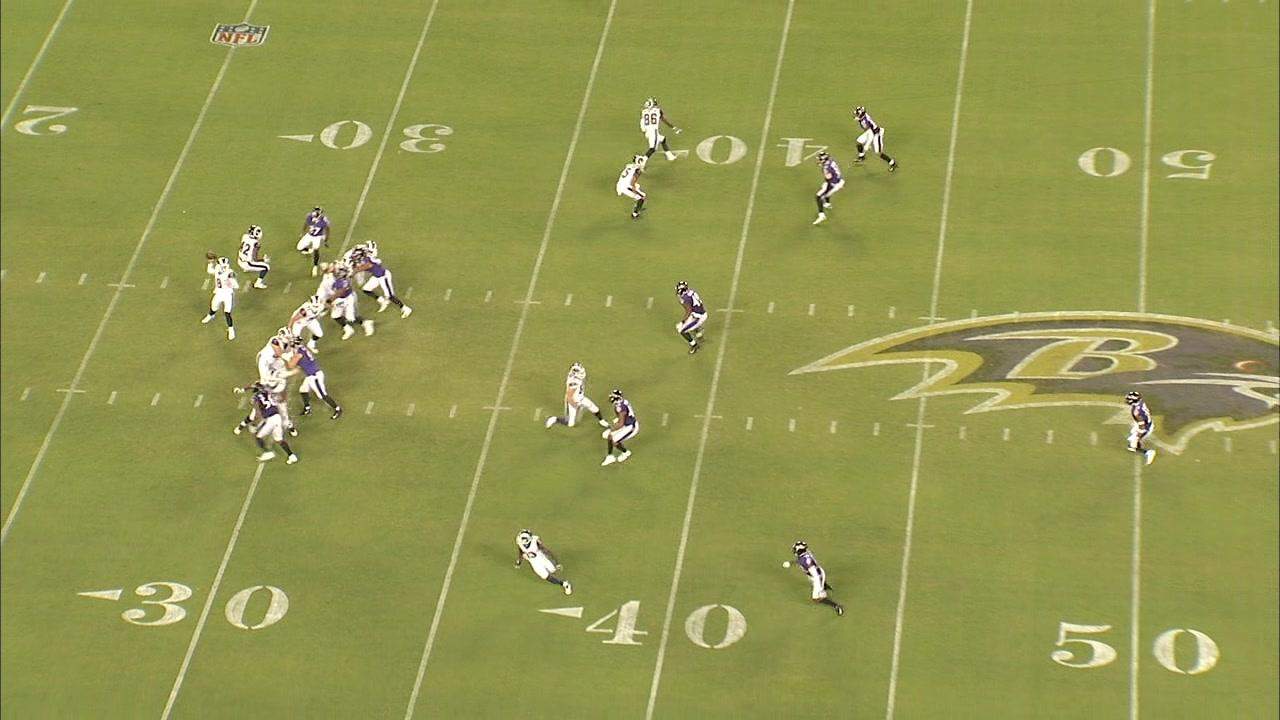ball: (202, 248, 219, 263)
number: (1047, 618, 1228, 676), (119, 577, 297, 635), (586, 596, 759, 655), (1072, 141, 1224, 186), (315, 115, 455, 157), (691, 129, 832, 170)
